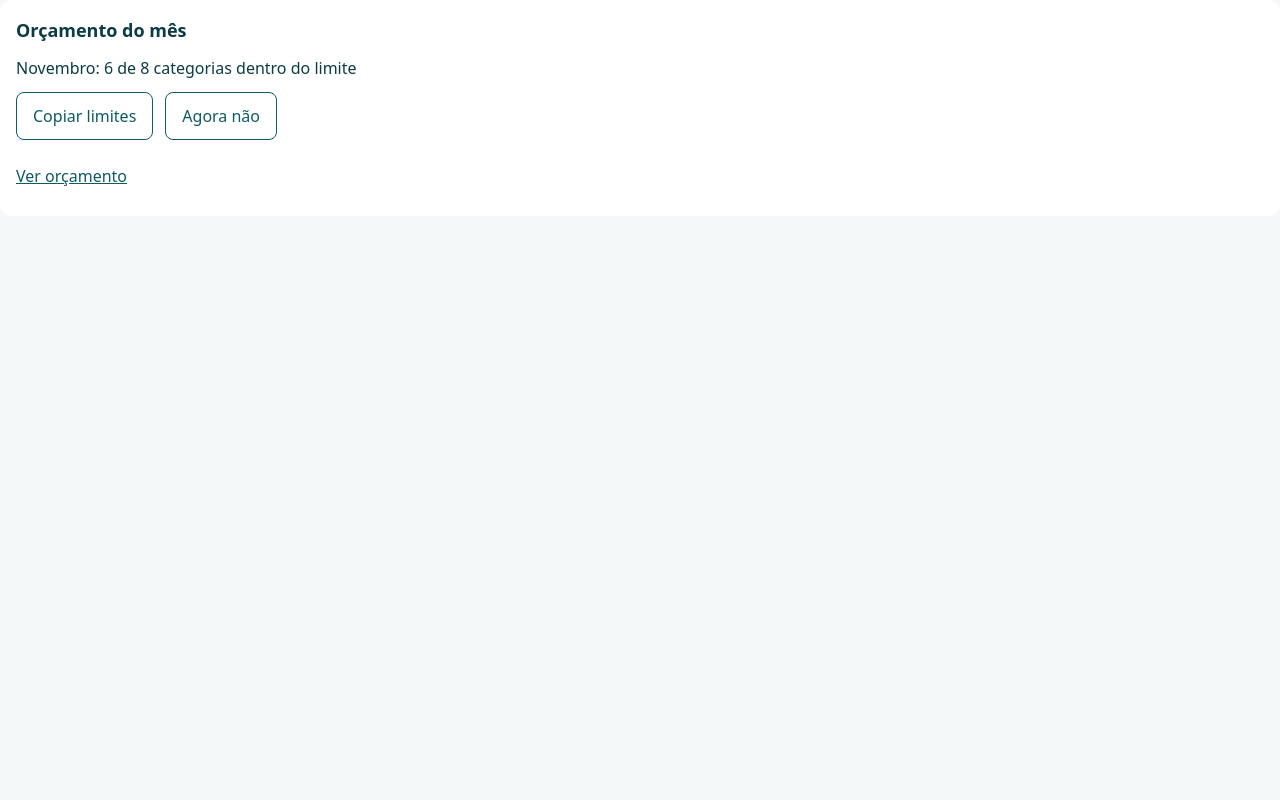
Test case: BudgetHomeCard › toasts and keeps the card when copying fails
The width and height of the screenshot is (1280, 800).
What coordinates should you click on to do the following:
click the button "Copiar limites"
I would click on:
 (85, 116)
Its box is left=16, top=92, right=153, bottom=140.
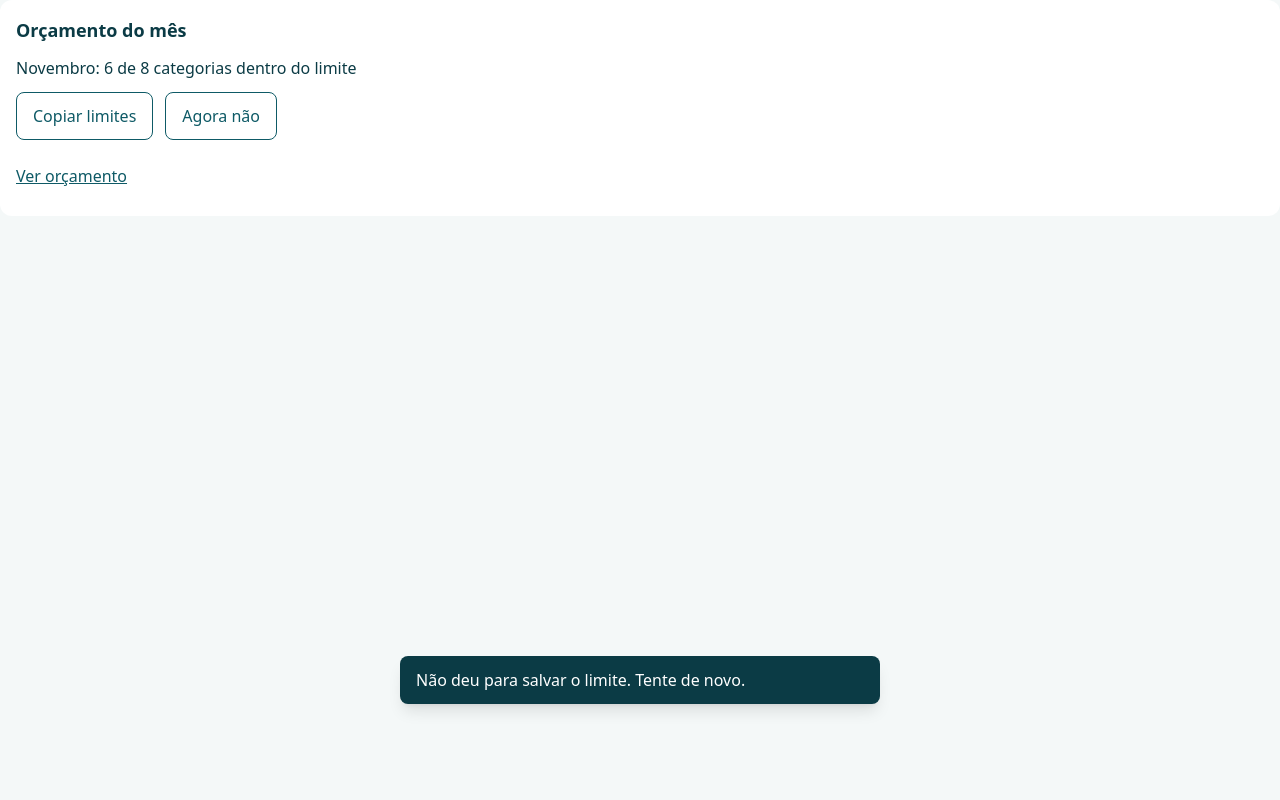
Expected: the text "Novembro: 6 de 8 categorias dentro do limite" is shown, left=16, top=57, right=356, bottom=79
Now the text "Não deu para salvar o limite. Tente de novo." is shown, box left=416, top=668, right=745, bottom=692
